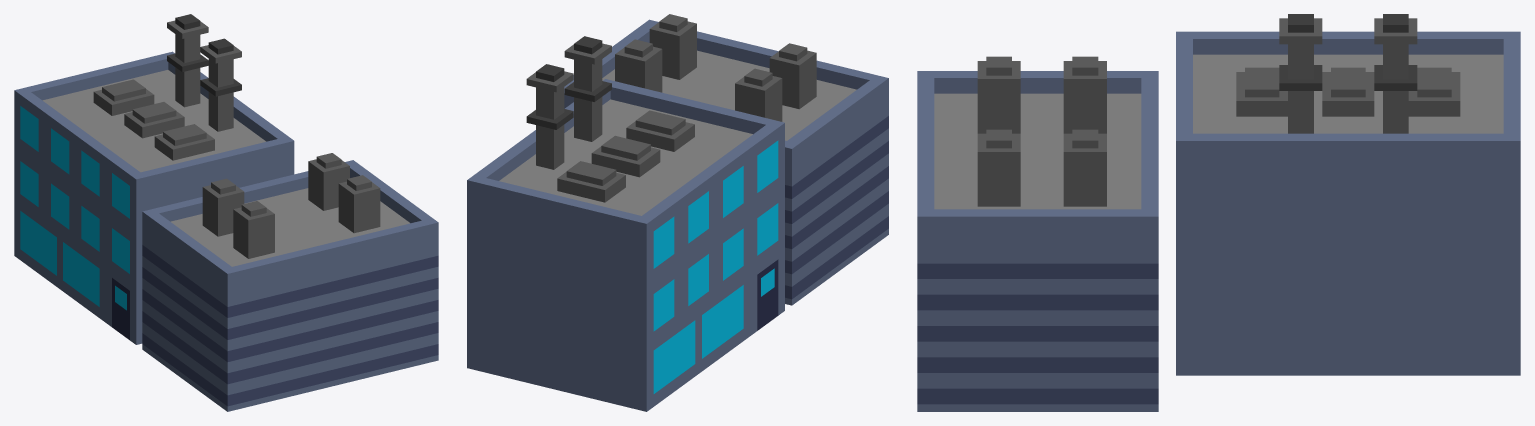
The model's file is Building01.obj.
The picture shows the model from 3 angles, left to right: view 1: azimuth 30°, elevation 25°; view 2: azimuth 150°, elevation 25°; view 3: azimuth 270°, elevation 25°; orthographic projection. The views are drawn at different scales.
Size of the model in its own units: 4 by 4.3 by 7.
Materials: 1 (1 with a texture image).
